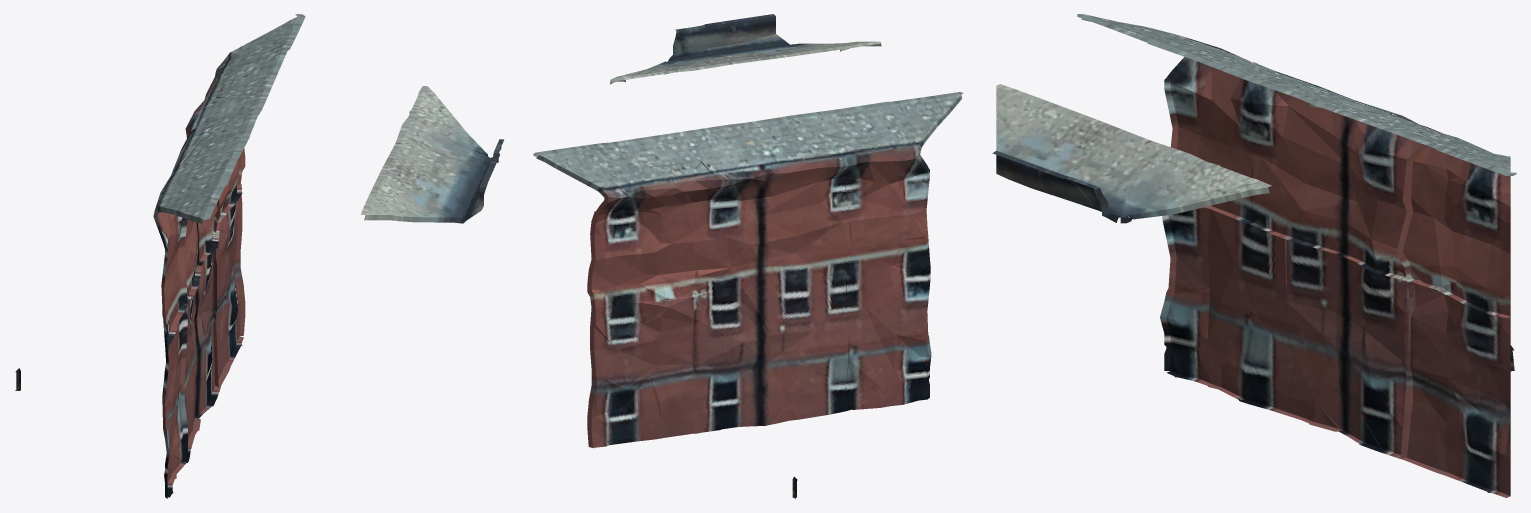
File: BuildingMesh-00067.gltf
3 renders of one model, left to right at view 1: azimuth 30°, elevation 25°; view 2: azimuth 150°, elevation 25°; view 3: azimuth 270°, elevation 25°, orthographic. The views are drawn at different scales.
Visible parts, largest first — view 1: BuildingMesh-00067; view 2: BuildingMesh-00067; view 3: BuildingMesh-00067.
Part boxes in pixels (left/top/right/bottom): BuildingMesh-00067: left=15, top=14, right=503, bottom=498; BuildingMesh-00067: left=533, top=14, right=963, bottom=498; BuildingMesh-00067: left=992, top=14, right=1516, bottom=497.
Bounding box in the file's own units: 0.7961 × 0.7451 × 0.9921.
Materials: 1 (1 with a texture image).
